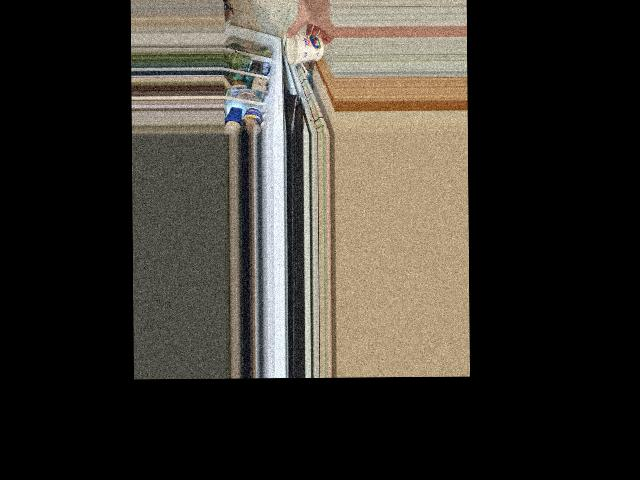cotage: (285, 33, 325, 64)
